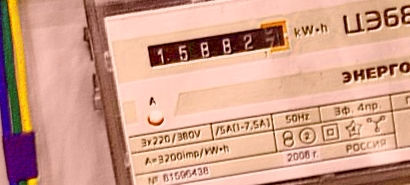1: (154, 45, 167, 64)
2: (241, 31, 255, 51)
5: (176, 43, 189, 61)
7: (264, 35, 276, 48)
8: (197, 39, 211, 57), (220, 35, 233, 54)
screen: (138, 15, 297, 76)
